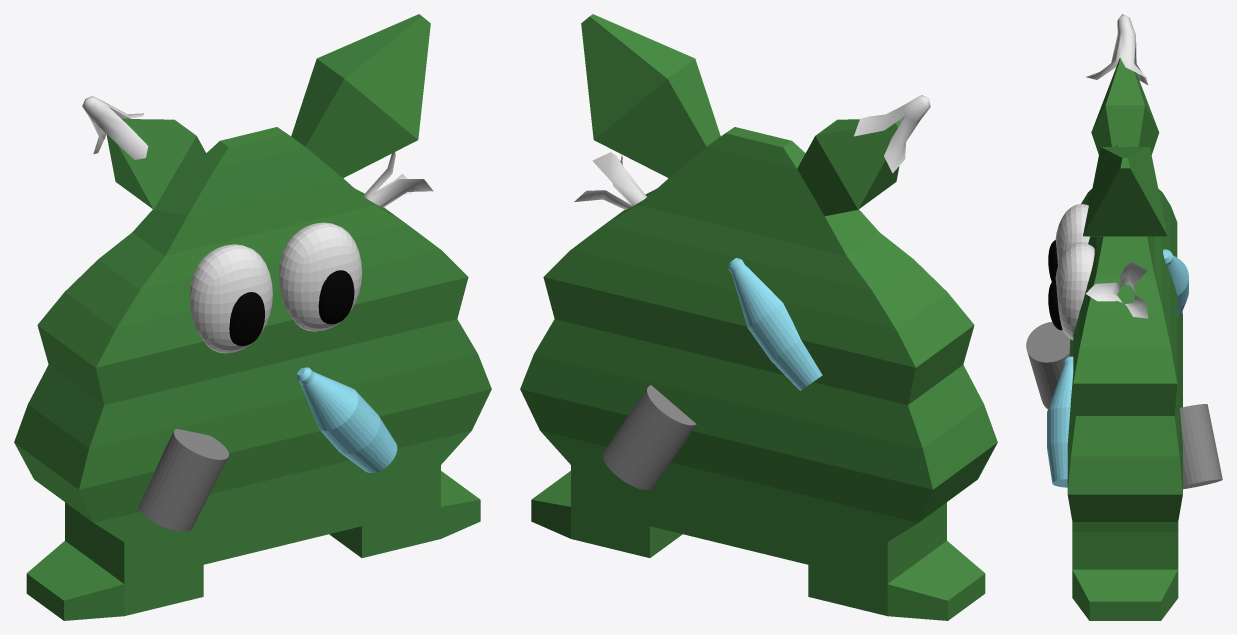
The model's file is Trash_Monster.fbx.
The picture shows the model from 3 angles, left to right: view 1: azimuth 30°, elevation 25°; view 2: azimuth 150°, elevation 25°; view 3: azimuth 270°, elevation 25°; orthographic projection. The views are drawn at different scales.
Visible parts, largest first — view 1: Cube.004, Circle, Cube.002, Cube, Circle.002, Banana_Peel.001, Cube.003, Cube.001, Banana_Peel; view 2: Cube.004, Circle.001, Circle.003, Banana_Peel.001, Banana_Peel; view 3: Cube.004, Circle.001, Cube.002, Circle.002, Circle, Banana_Peel, Banana_Peel.001, Cube, Circle.003, Cube.003, Cube.001.
Part boxes in pixels (x1,y1,x2,y2): Cube.004: (14,14,491,620); Circle: (138,428,228,531); Cube.002: (279,222,362,331); Cube: (189,244,272,353); Circle.002: (296,367,397,472); Banana_Peel.001: (82,96,148,159); Cube.003: (318,270,354,324); Cube.001: (229,292,264,346); Banana_Peel: (363,152,433,207); Cube.004: (520,14,997,620); Circle.001: (602,385,696,490); Circle.003: (728,258,822,390); Banana_Peel.001: (854,95,930,173); Banana_Peel: (574,152,646,209); Cube.004: (1067,58,1182,620); Circle.001: (1180,404,1222,489); Cube.002: (1055,242,1094,340); Circle.002: (1047,356,1073,487); Circle: (1026,321,1070,408); Banana_Peel: (1086,262,1148,318); Banana_Peel.001: (1086,14,1148,85); Cube: (1055,204,1089,265); Circle.003: (1163,249,1188,317); Cube.003: (1048,278,1062,330); Cube.001: (1048,240,1057,281).
Size of the model in its own units: 68.79 by 79.33 by 31.75.
